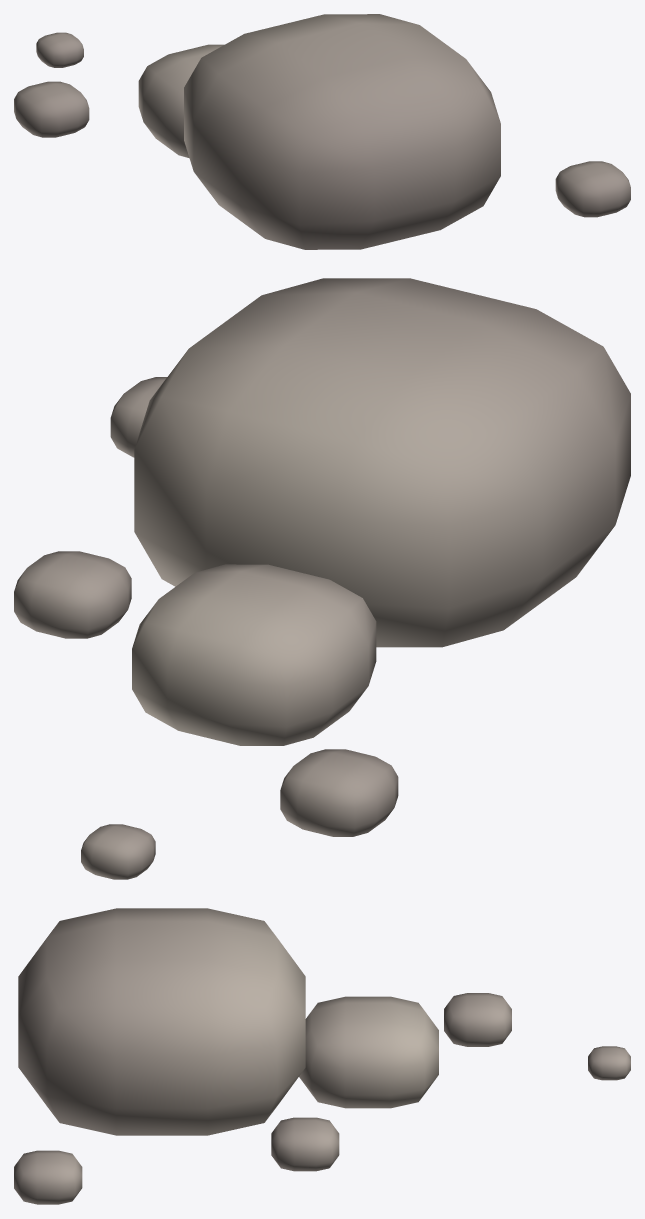
File: Rocks_03.fbx
The picture shows the model from 3 angles, top to bottom: view 1: azimuth 30°, elevation 25°; view 2: azimuth 150°, elevation 25°; view 3: azimuth 270°, elevation 25°; orthographic projection. The views are drawn at different scales.
Parts seen in each view (by area): view 1: Rocks_03; view 2: Rocks_03; view 3: Rocks_03.
Part boxes in pixels (bbox=[...]): Rocks_03: bbox=[14, 14, 630, 249]; Rocks_03: bbox=[14, 278, 630, 879]; Rocks_03: bbox=[14, 908, 630, 1204].
Size of the model in its own units: 284 by 115 by 398.
